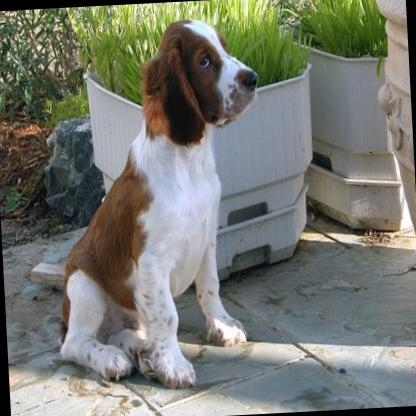Welsh_springer_spaniel: (38, 12, 274, 394)
